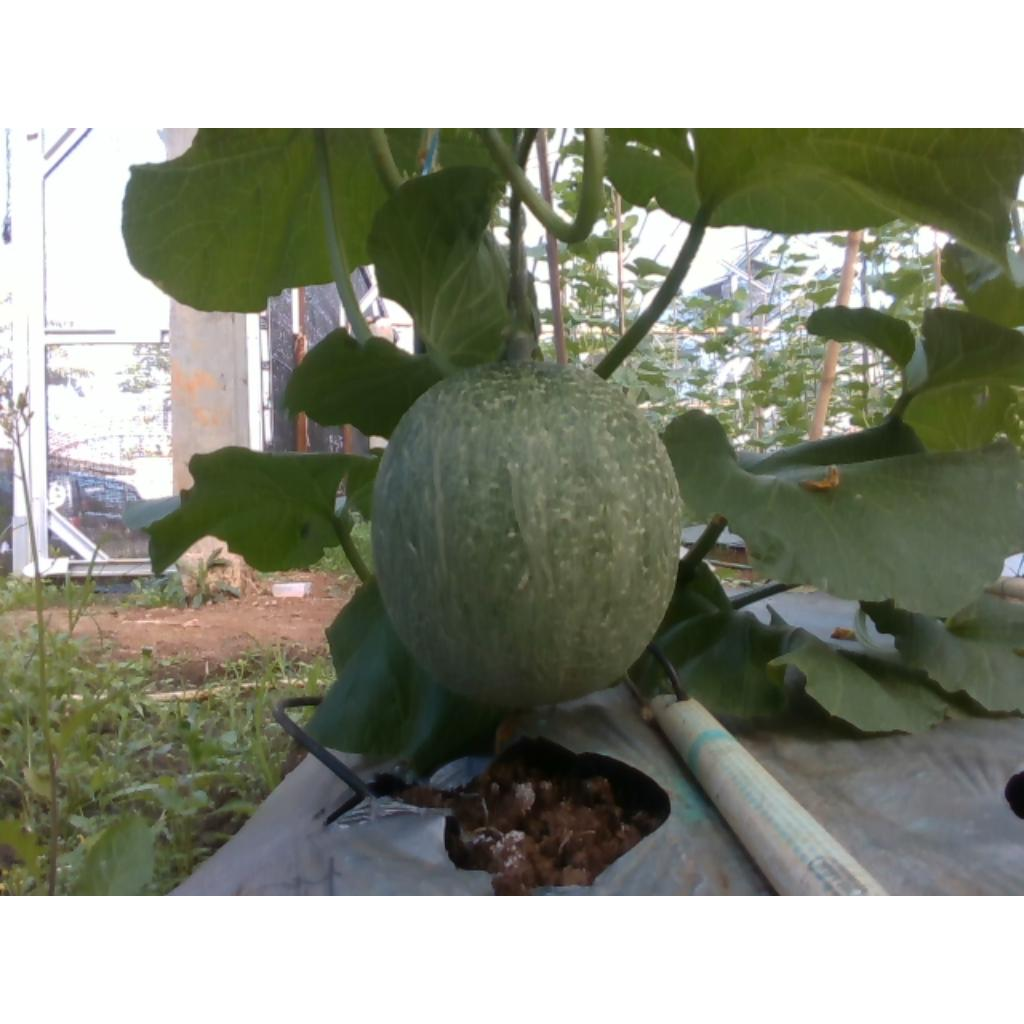melon: (373, 362, 682, 708)
